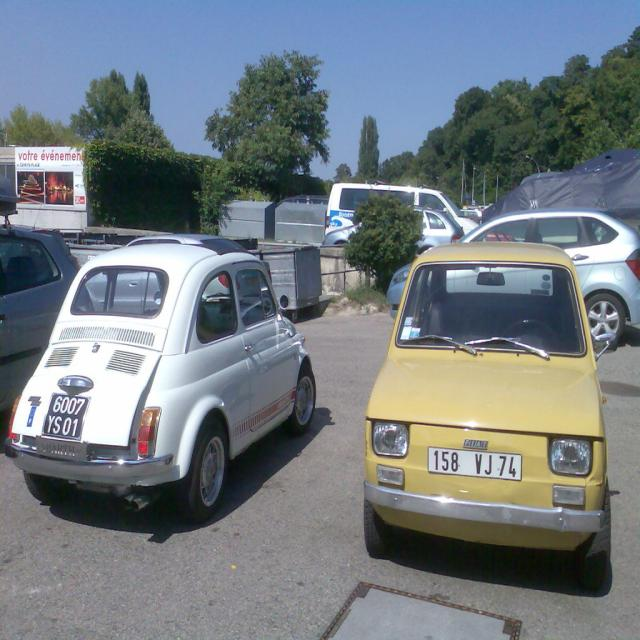car: (1, 242, 316, 518), (361, 242, 613, 587)
